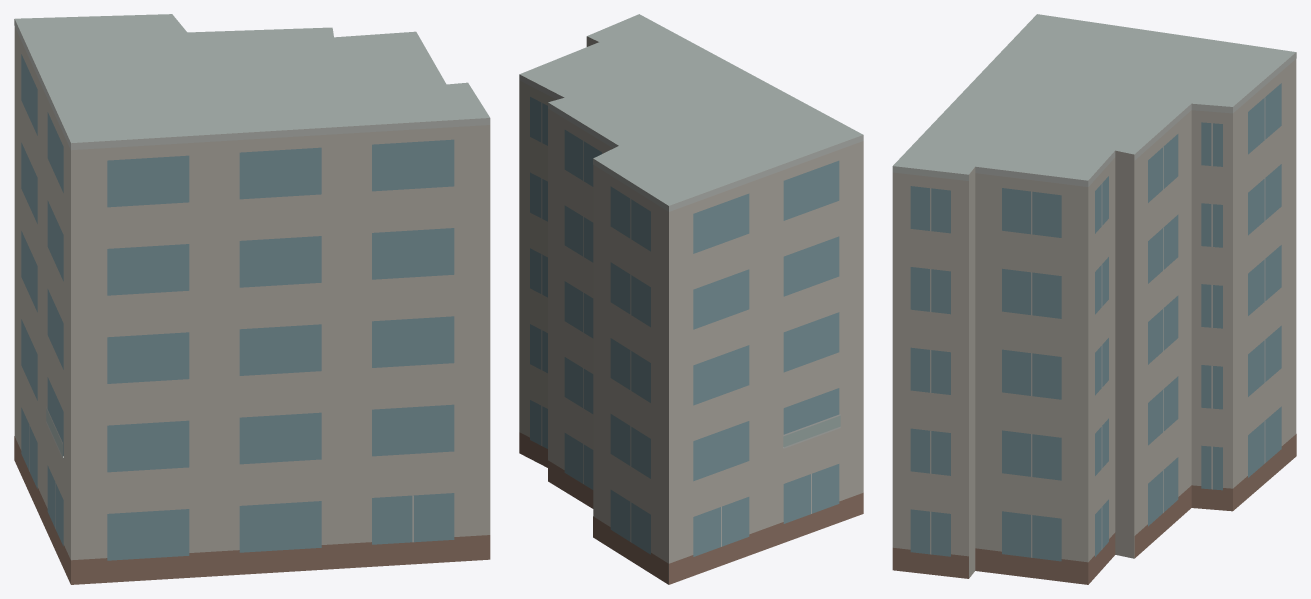
Rendered from survey-upis-32656270.glb.
3 views of the same model, side by side, from view 1: azimuth 30°, elevation 25°; view 2: azimuth 150°, elevation 25°; view 3: azimuth 270°, elevation 25° (orthographic). The views are drawn at different scales.
Visible parts, largest first — view 1: survey-upis-32656270.tmp; view 2: survey-upis-32656270.tmp; view 3: survey-upis-32656270.tmp.
Part boxes in pixels (x1,y1,x2,y2): survey-upis-32656270.tmp: (14,14,490,584); survey-upis-32656270.tmp: (519,14,863,584); survey-upis-32656270.tmp: (892,14,1296,584).
Size of the model in its own units: 13.54 by 15.3 by 13.86.
